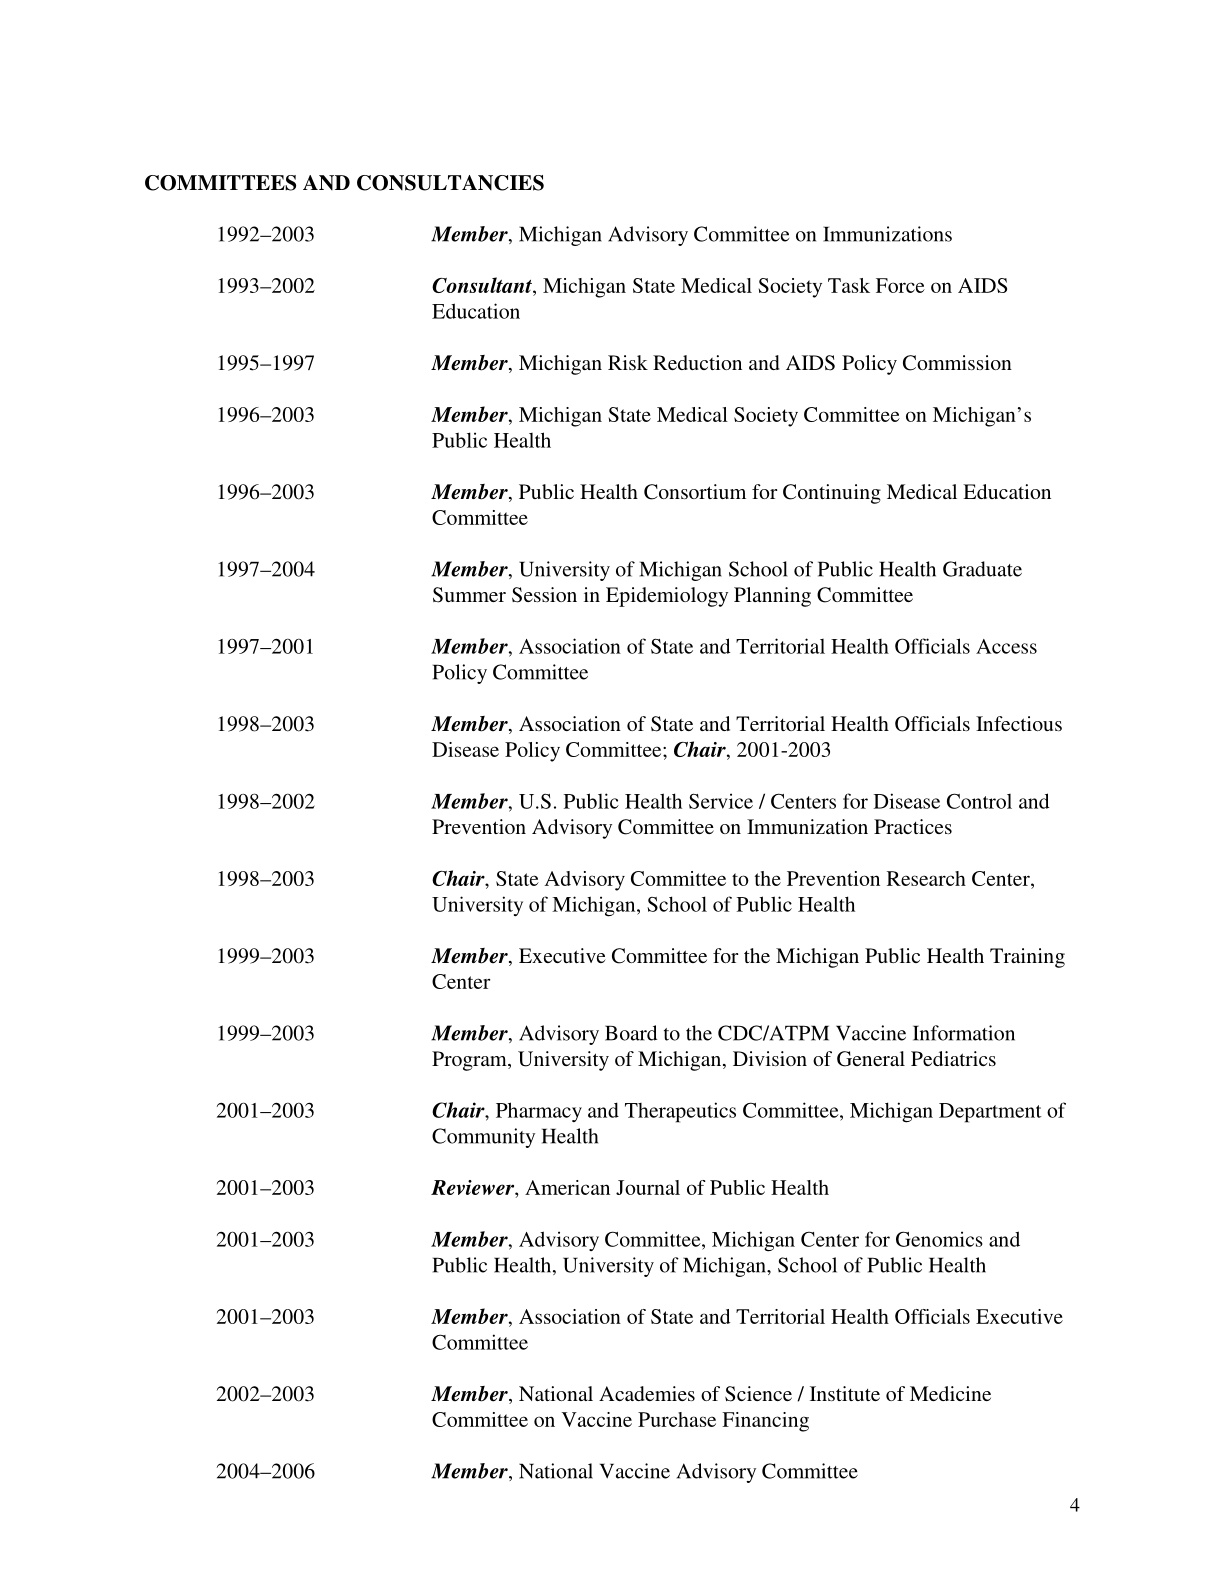nolines: (212, 221, 1074, 1485)
